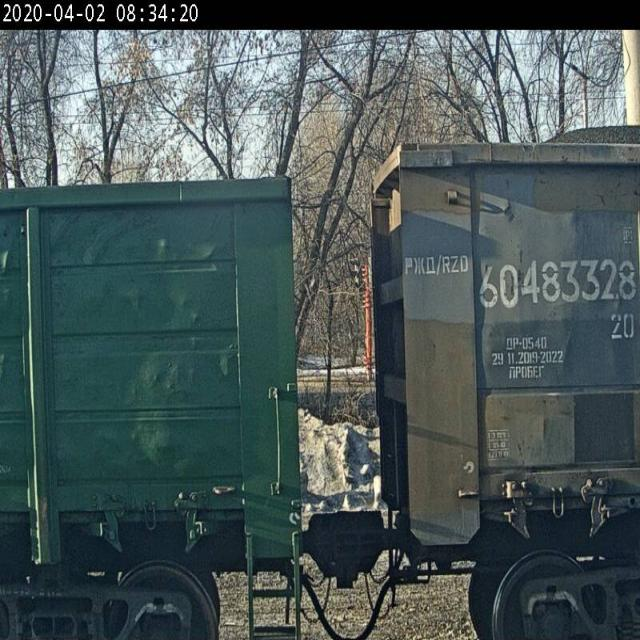gondola: (0, 147, 322, 639), (370, 108, 640, 640)
